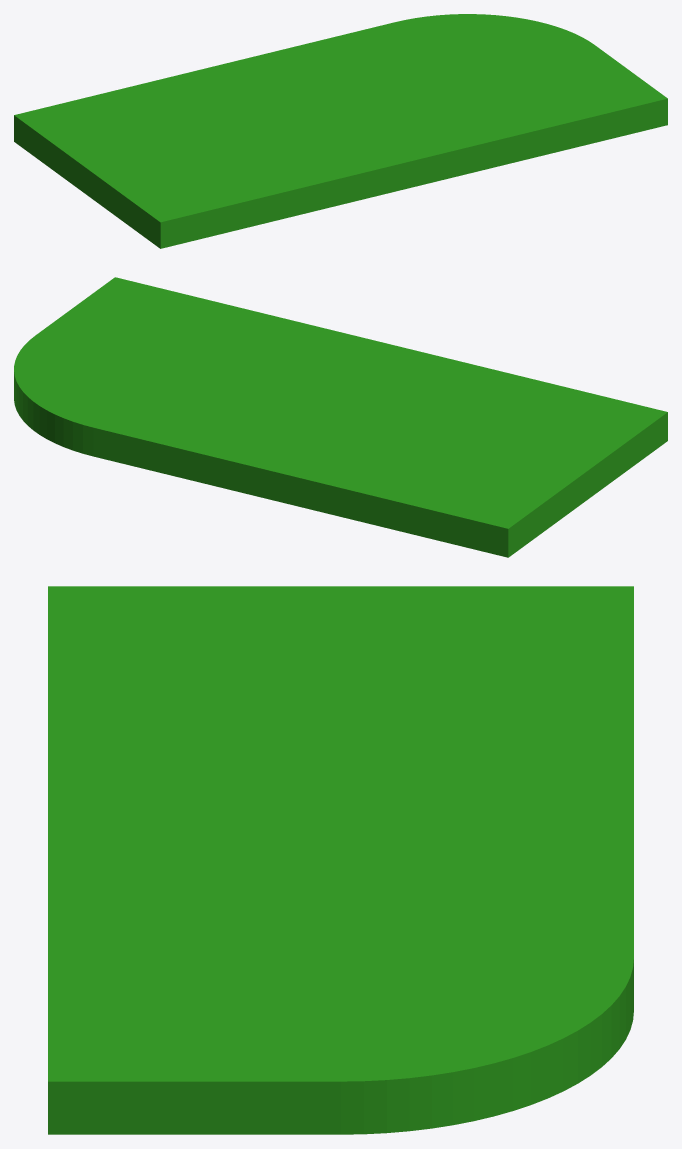
Rendered from grass_half_roundcorner.fbx.
The picture shows the model from 3 angles, top to bottom: view 1: azimuth 30°, elevation 25°; view 2: azimuth 150°, elevation 25°; view 3: azimuth 270°, elevation 25°; orthographic projection. The views are drawn at different scales.
Parts seen in each view (by area): view 1: sidewalk round corners half.001; view 2: sidewalk round corners half.001; view 3: sidewalk round corners half.001.
Part boxes in pixels (x1,y1,x2,y2): sidewalk round corners half.001: (14, 14, 667, 248); sidewalk round corners half.001: (14, 277, 667, 557); sidewalk round corners half.001: (48, 586, 633, 1134).
Bounding box in the file's own units: 2000 × 100 × 1000.
